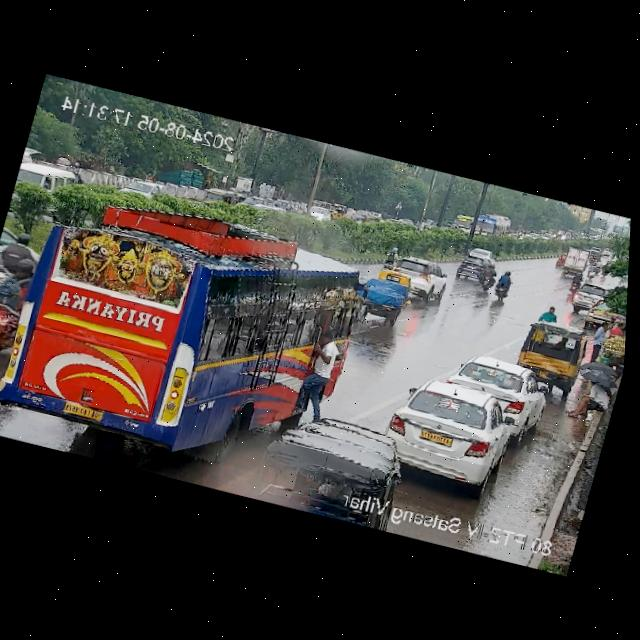bus: (0, 169, 375, 448), (474, 210, 512, 242), (450, 211, 475, 234)
car: (378, 370, 519, 489), (247, 406, 354, 516), (440, 352, 548, 434), (514, 318, 589, 393), (381, 252, 450, 304), (564, 279, 610, 313), (454, 253, 485, 285), (204, 184, 234, 207), (470, 245, 497, 261), (327, 200, 348, 220), (555, 251, 565, 267)
motorcycle: (0, 256, 36, 353), (0, 220, 36, 314), (356, 266, 412, 322), (489, 268, 515, 302), (478, 262, 500, 292), (567, 269, 583, 294), (585, 259, 597, 279), (593, 257, 603, 274)
person: (575, 375, 615, 420), (583, 317, 622, 363), (541, 304, 561, 324)
truck: (559, 244, 584, 280)
